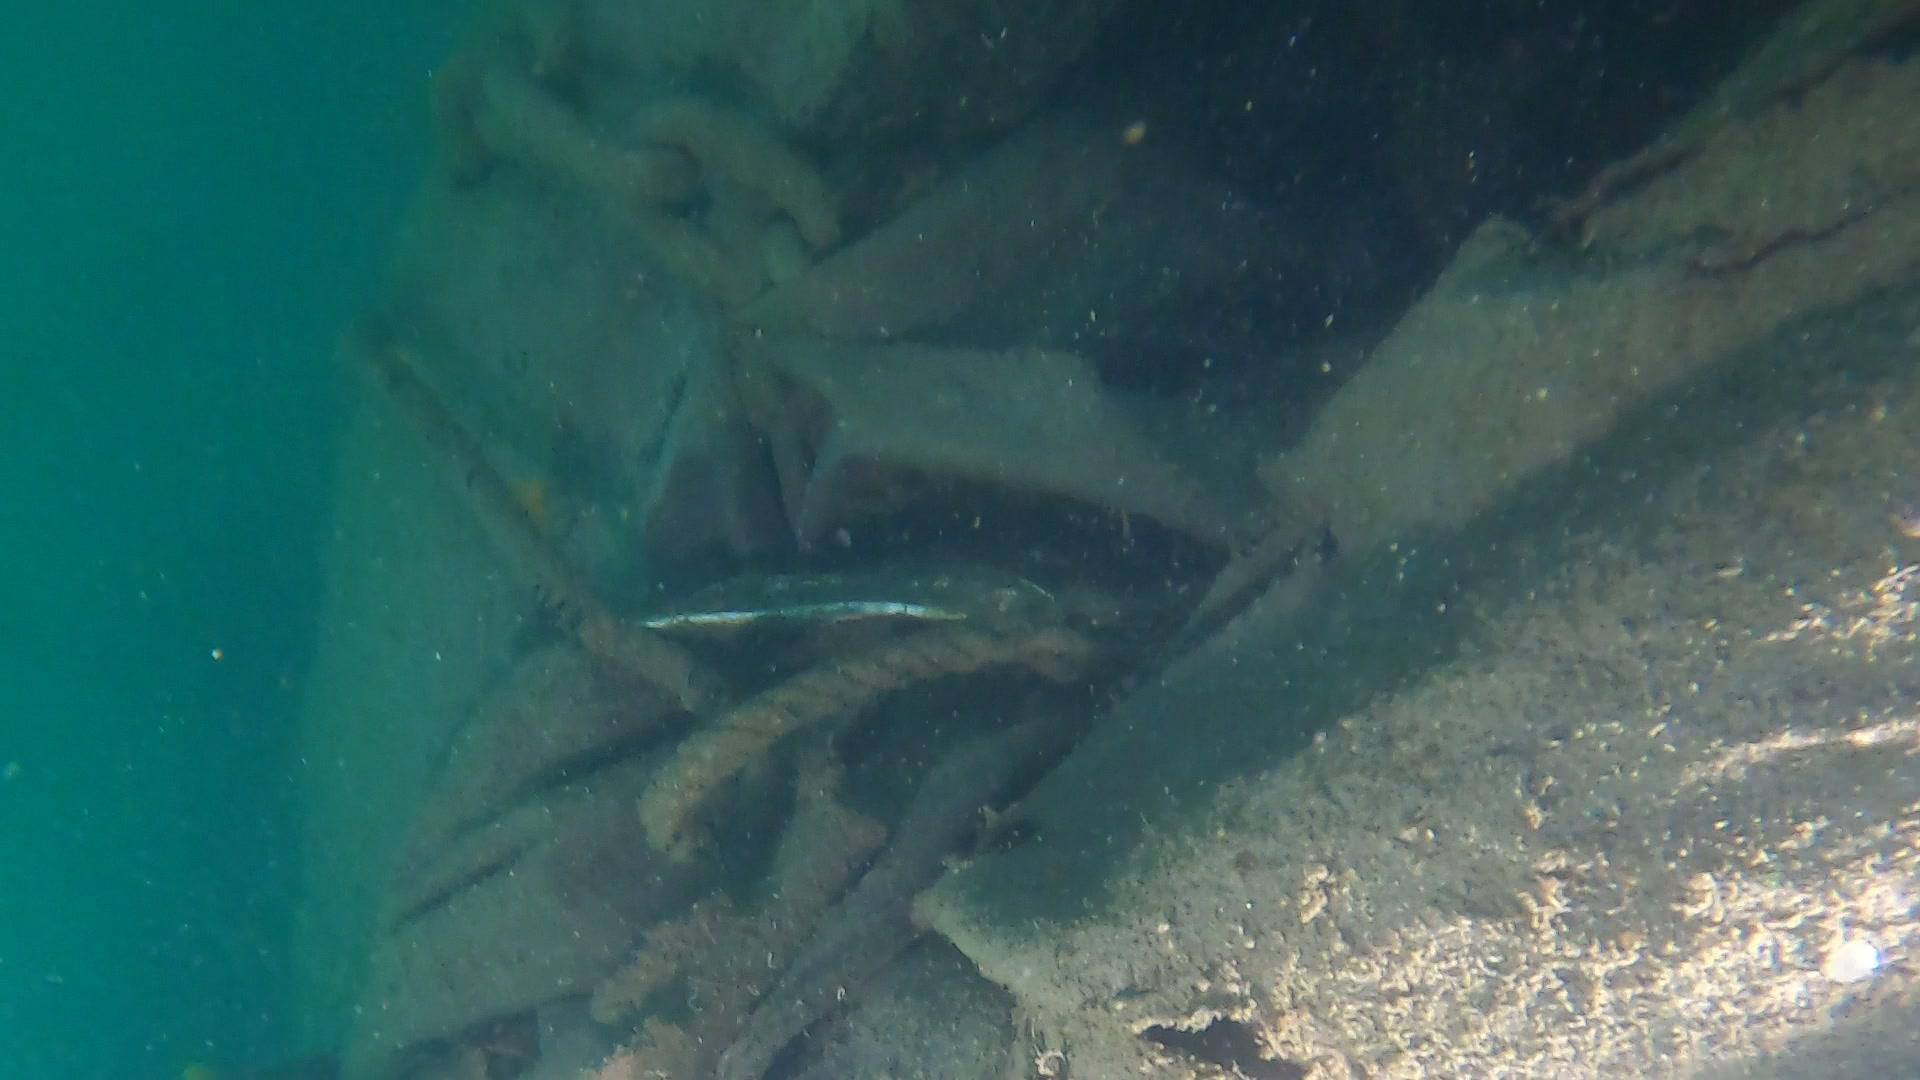rope: (634, 618, 1096, 862)
